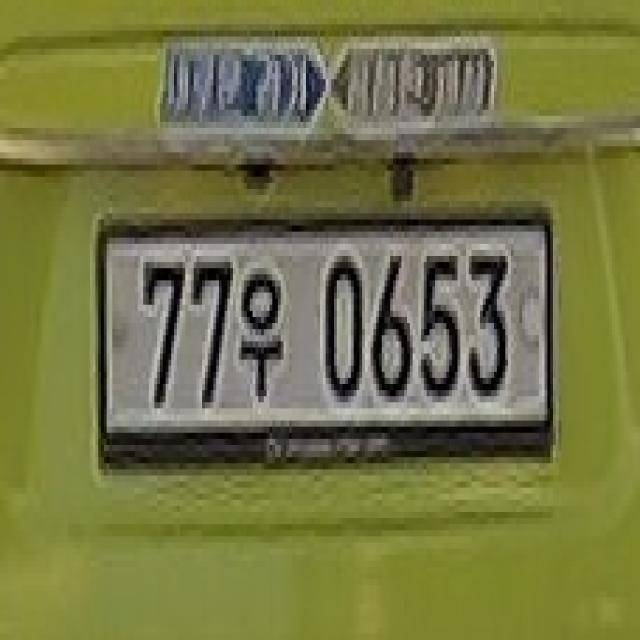plat: (96, 204, 557, 469)
